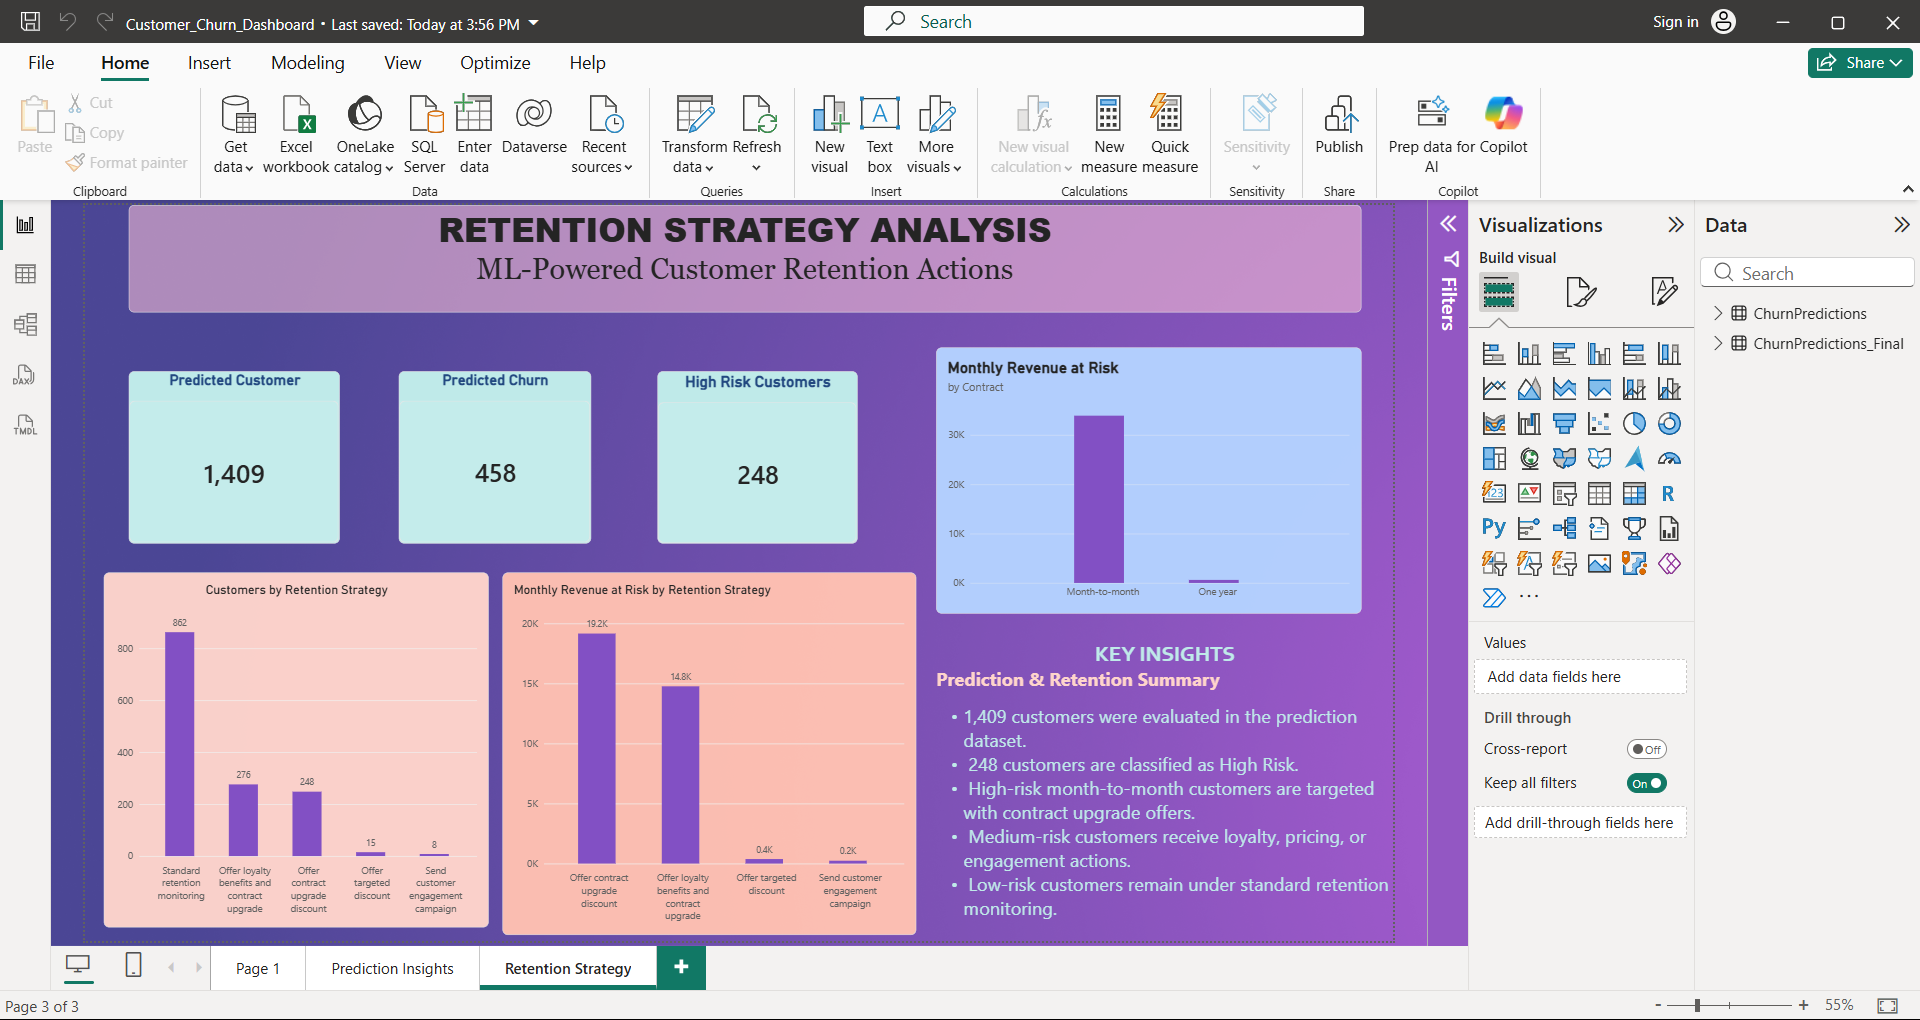

What the dashboard file says about the page in this screenshot:
{"tool":"powerbi","page":{"name":"Retention Strategy","canvas":[1920,1080],"ordinal":2},"visuals":[{"type":"clusteredColumnChart","title":"Customers by Retention Strategy","fields":{"Category":["ChurnPredictions_Final.RetentionStrategy"],"Y":["ChurnPredictions_Final.Retention Strategy Count"]},"box":[27.5,539.3,564.9,520.9],"z":0},{"type":"textbox","box":[1249.1,638.3,671.3,421.9],"z":1},{"type":"clusteredColumnChart","title":"Monthly Revenue at Risk by Retention Strategy","fields":{"Category":["ChurnPredictions_Final.RetentionStrategy"],"Y":["ChurnPredictions_Final.Revenue at Risk by Strategy"]},"box":[612.6,539.3,607.1,531.9],"z":2},{"type":"cardVisual","title":"Predicted Customer ","fields":{"Data":["ChurnPredictions.Total Customers Display"]},"box":[64.2,244,310,253.1],"z":3},{"type":"cardVisual","title":"High Risk Customers","fields":{"Data":["ChurnPredictions.High Risk Customer Count"]},"box":[840.1,244,293.5,253.1],"z":5},{"type":"cardVisual","title":"Predicted Churn","fields":{"Data":["Sum(ChurnPredictions.PredictedChurn)"]},"box":[460.4,244,282.5,253.1],"z":6},{"type":"columnChart","title":"Monthly Revenue at Risk","fields":{"Category":["ChurnPredictions.Contract"],"Y":["ChurnPredictions.Revenue at Risk"]},"box":[1249.1,209.1,623.6,390.7],"z":7},{"type":"textbox","box":[64.2,0,1808.6,157.7],"z":8}]}

Visuals, with their boxes on the page's 1920x1080 design canvas (x1, y1, x2, y2). These are canvas units, not pixel positions in the 1920x1020 screenshot, which may show the page scaled, cropped or inside an application window:
"Customers by Retention Strategy" clusteredColumnChart: box=[28, 539, 592, 1060]
textbox: box=[1249, 638, 1920, 1060]
"Monthly Revenue at Risk by Retention Strategy" clusteredColumnChart: box=[613, 539, 1220, 1071]
"Predicted Customer " cardVisual: box=[64, 244, 374, 497]
"High Risk Customers" cardVisual: box=[840, 244, 1134, 497]
"Predicted Churn" cardVisual: box=[460, 244, 743, 497]
"Monthly Revenue at Risk" columnChart: box=[1249, 209, 1873, 600]
textbox: box=[64, 0, 1873, 158]
